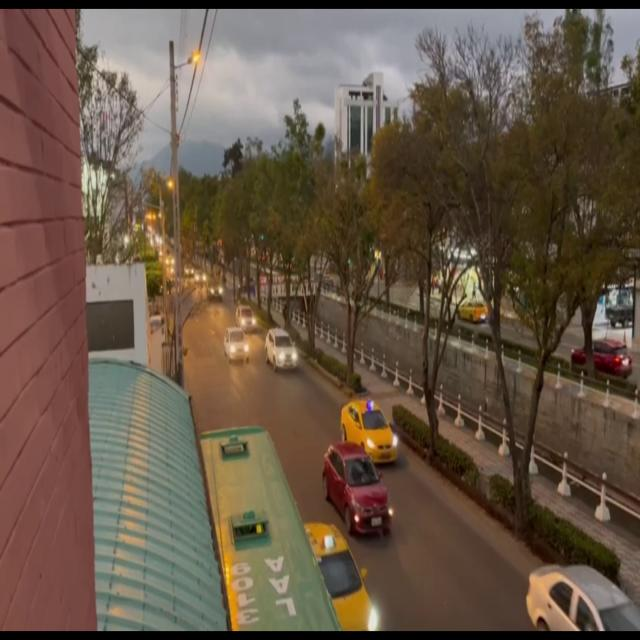BUS: (198, 432, 340, 638)
SED: (340, 402, 398, 464), (267, 331, 297, 373), (226, 330, 250, 365)
